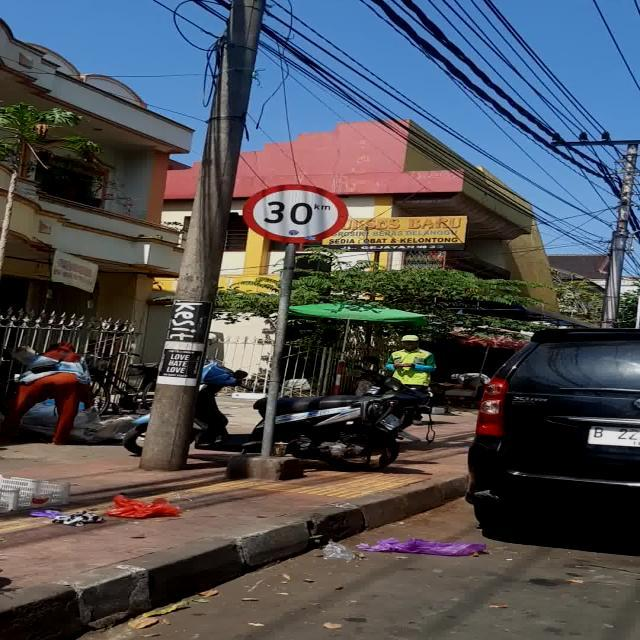Kecepatan Maks. 30 km: (242, 184, 348, 243)
